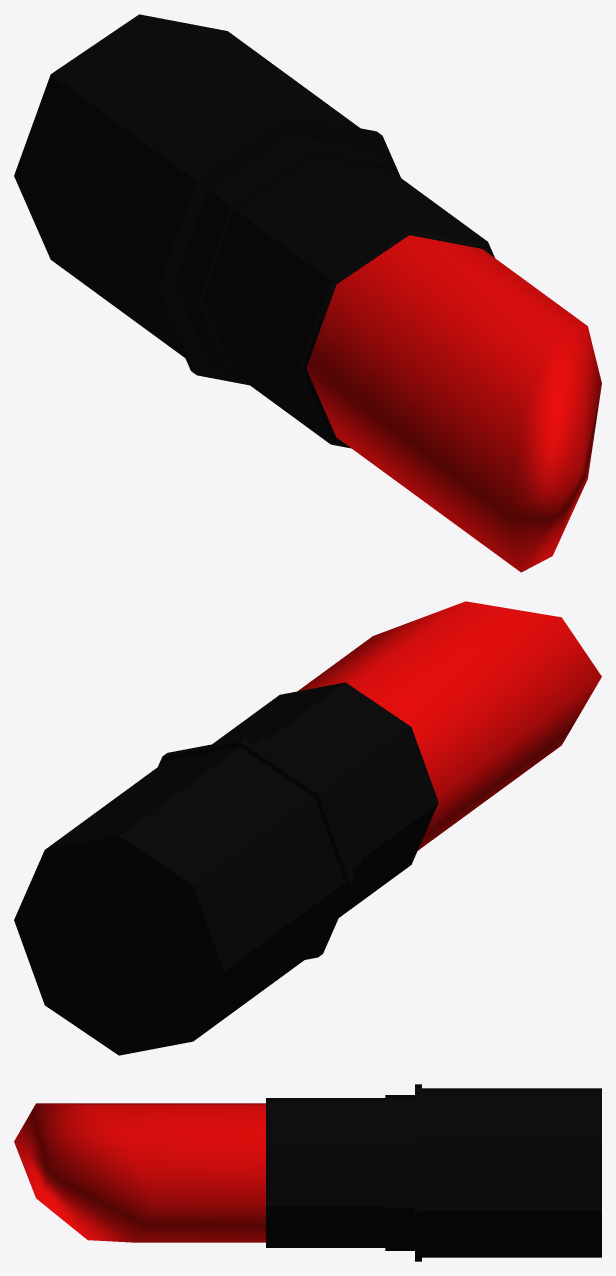
The model's file is Mesh_LipStick.fbx.
3 views of the same model, one above another, from view 1: azimuth 30°, elevation 25°; view 2: azimuth 150°, elevation 25°; view 3: azimuth 270°, elevation 25° (orthographic). The views are drawn at different scales.
Parts seen in each view (by area): view 1: Mesh_Lipstick_Projectile01; view 2: Mesh_Lipstick_Projectile01; view 3: Mesh_Lipstick_Projectile01.
Boxes of the visible parts, box(x1,y1,x2,y2) form: Mesh_Lipstick_Projectile01: box(14, 14, 601, 572); Mesh_Lipstick_Projectile01: box(14, 601, 601, 1055); Mesh_Lipstick_Projectile01: box(14, 1084, 601, 1261).
Bounding box in the file's own units: 0.0924 × 0.0924 × 0.2879.
